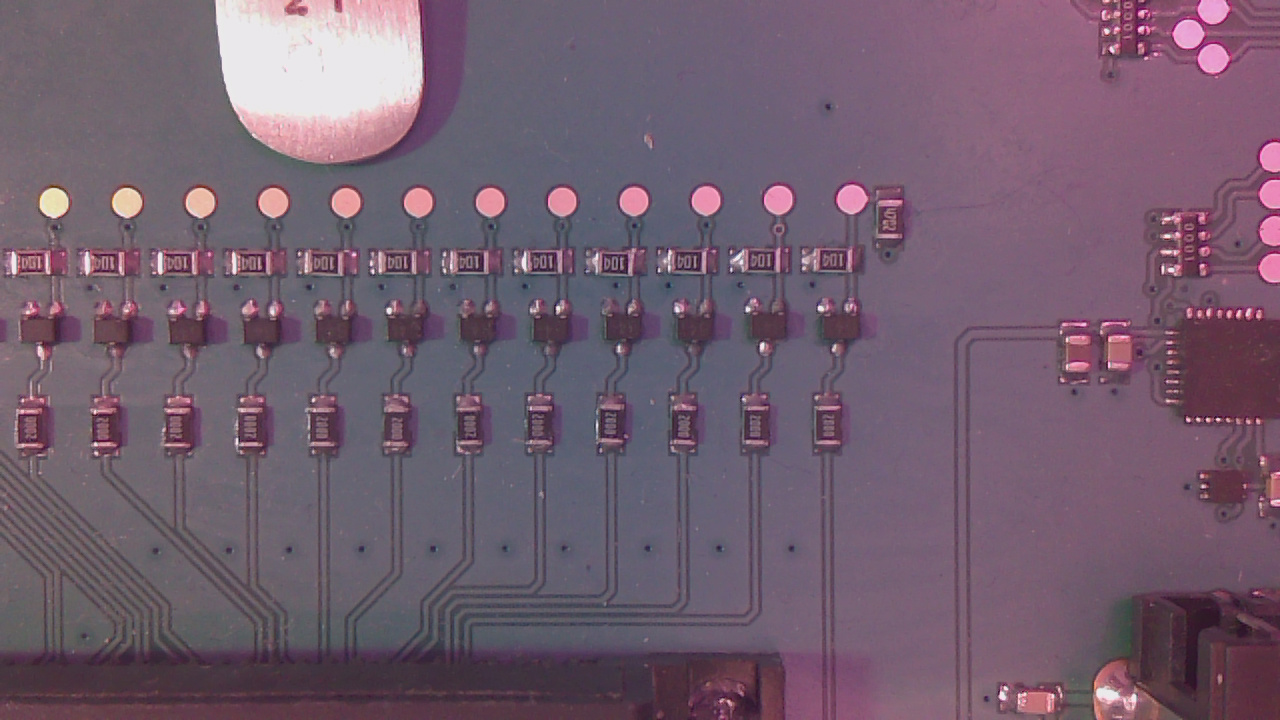Condensator: (1068, 337, 1098, 380), (1112, 337, 1140, 379), (1022, 695, 1063, 720)
Resistor: (165, 409, 199, 456), (881, 201, 914, 249), (600, 407, 633, 455), (817, 408, 850, 453), (311, 412, 345, 455), (18, 412, 51, 455), (744, 410, 776, 454), (459, 409, 490, 454), (529, 407, 559, 453), (673, 409, 703, 455), (92, 412, 123, 456), (671, 251, 718, 280), (238, 415, 272, 455), (388, 410, 418, 455), (599, 252, 641, 284), (815, 248, 861, 276), (235, 253, 280, 281), (86, 253, 128, 282), (306, 252, 349, 280), (12, 254, 58, 280), (379, 253, 422, 280), (747, 251, 787, 280), (159, 253, 201, 280), (527, 255, 572, 280), (454, 253, 496, 279)
Transistor: (823, 303, 868, 362), (389, 305, 434, 362), (677, 304, 722, 360), (751, 302, 794, 360), (606, 303, 647, 363), (173, 307, 216, 364), (23, 307, 68, 361), (535, 306, 577, 360), (463, 307, 504, 362), (246, 306, 287, 361), (319, 306, 360, 360), (98, 309, 139, 360)
